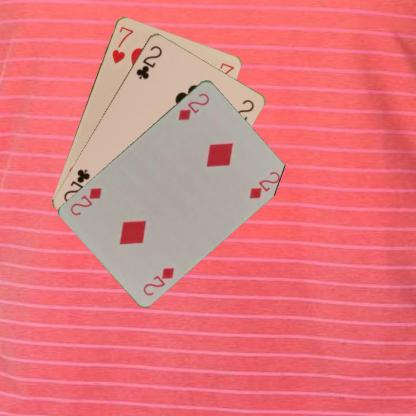2c: (133, 42, 163, 80)
2d: (140, 264, 176, 297), (175, 90, 211, 122)
7h: (109, 24, 135, 64)
